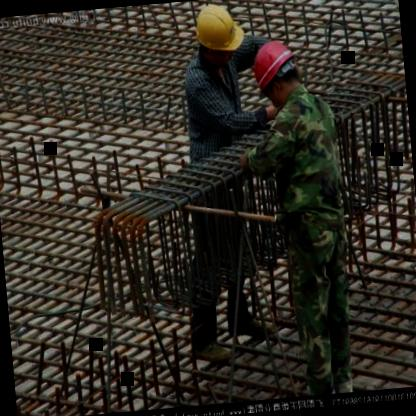helmet: (245, 33, 309, 115), (187, 0, 251, 73)
